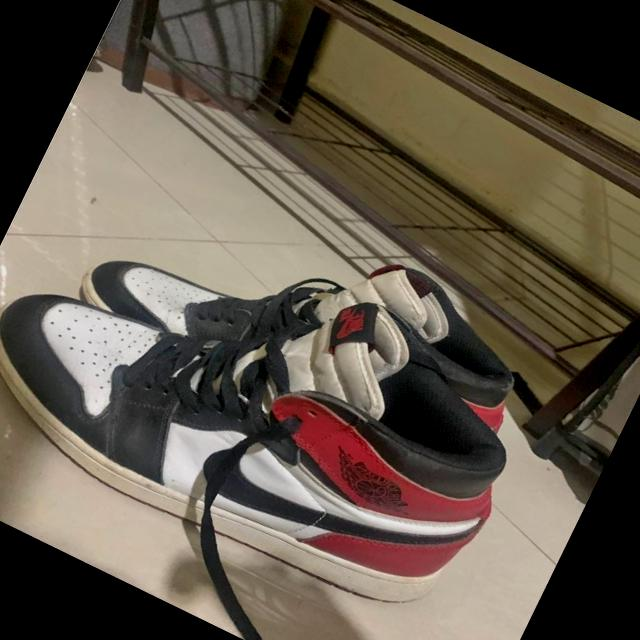nike_fake_jordan: (0, 158, 557, 640), (64, 134, 554, 498)
